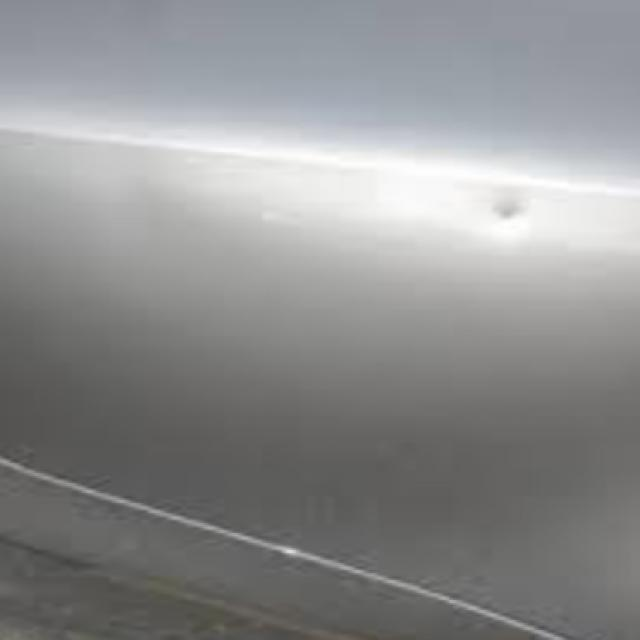dents: (446, 174, 562, 259)
